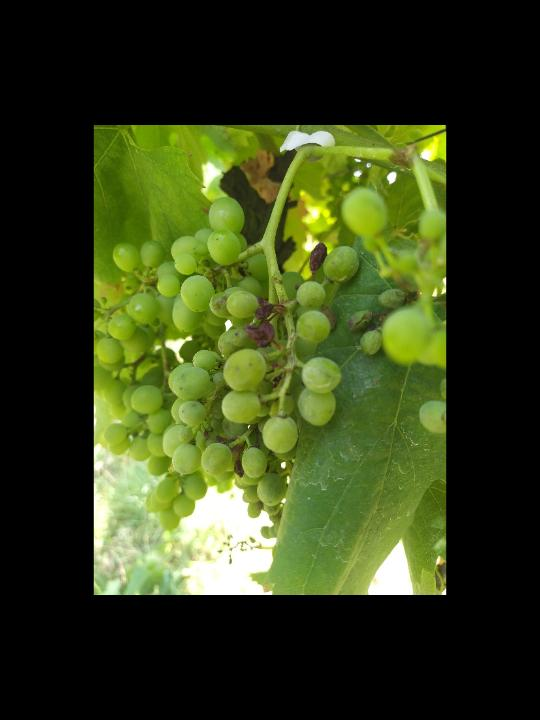grape: (169, 193, 365, 507)
